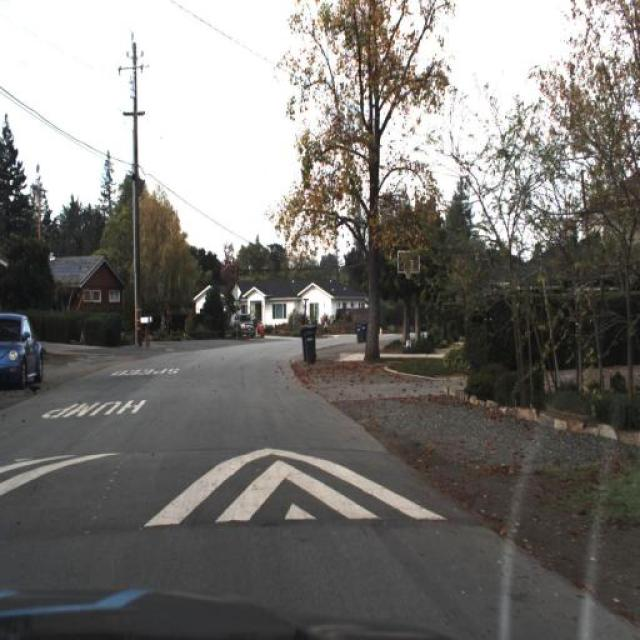car: (0, 306, 46, 396), (224, 306, 255, 344), (250, 310, 268, 342)
trafficLight: (320, 309, 330, 337)
